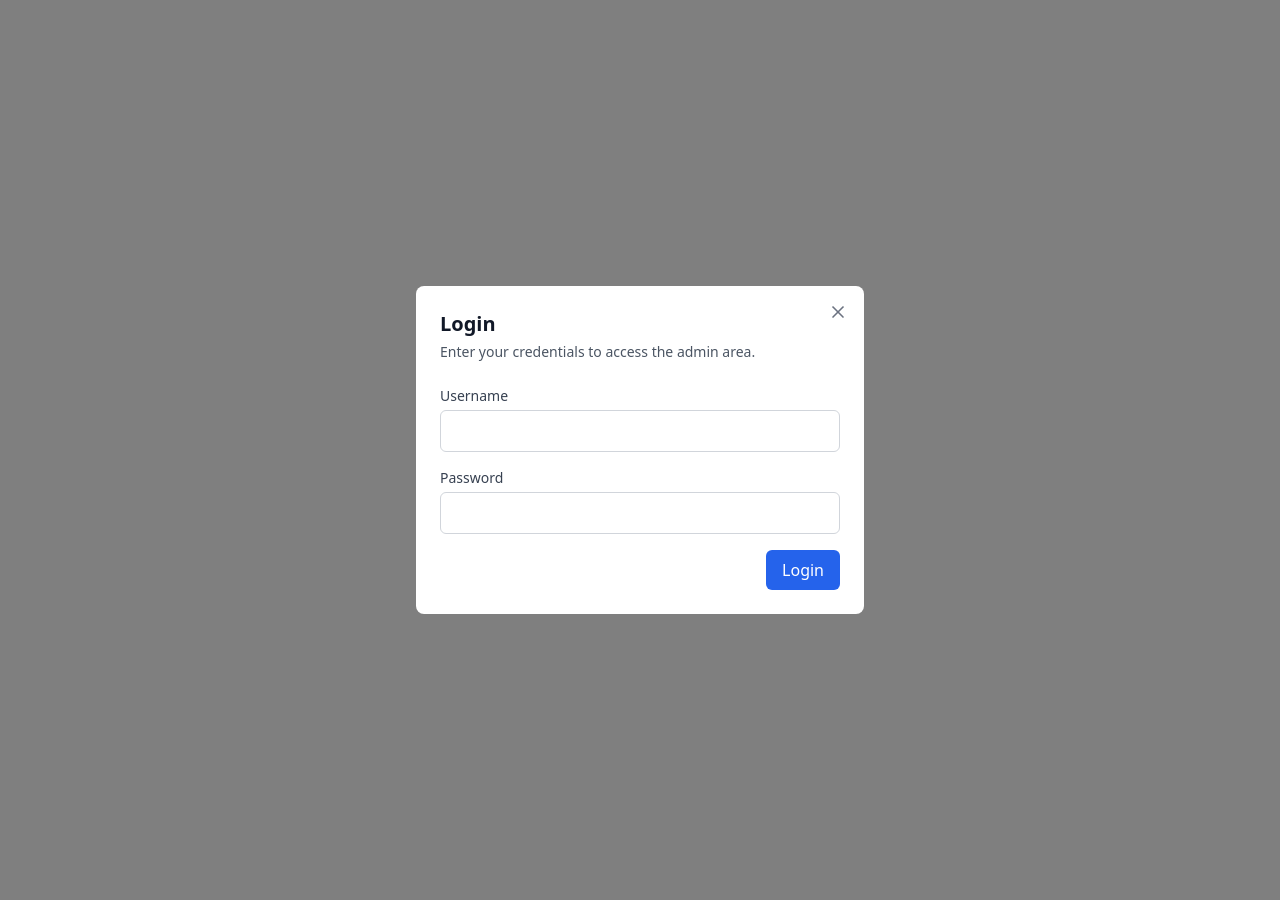
it: LoginModal Component › when isOpen is true › when invalid credentials are entered › displays an error message
In the field with test id "login-modal-username": coordinates (640, 431) [440,410,840,452], type "wrongUser"
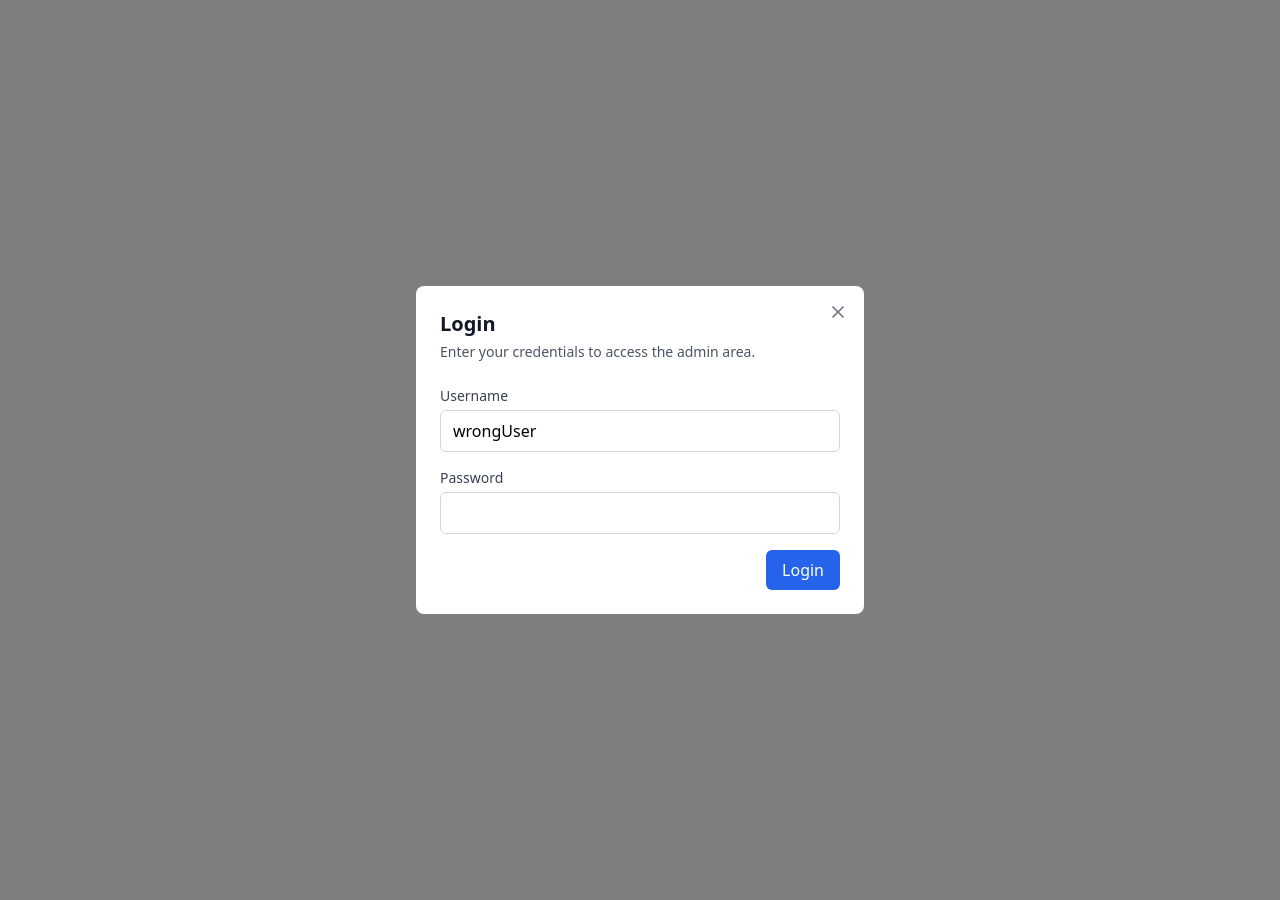
In the password field with test id "login-modal-password": coordinates (640, 513) [440,492,840,534], type "wrongPass"
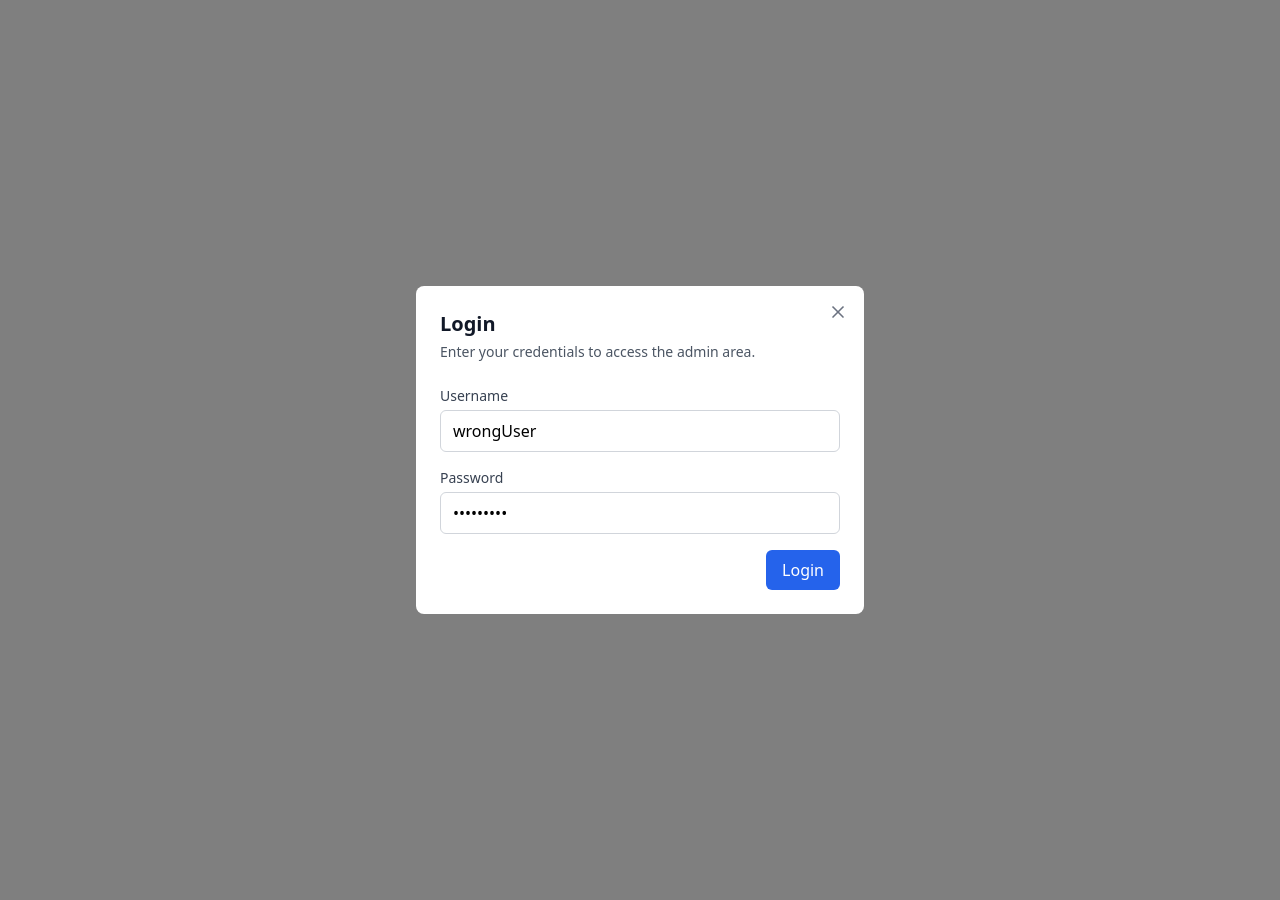
Click the button with test id "login-modal-submit-button": coordinates (803, 570) [766,550,840,590]
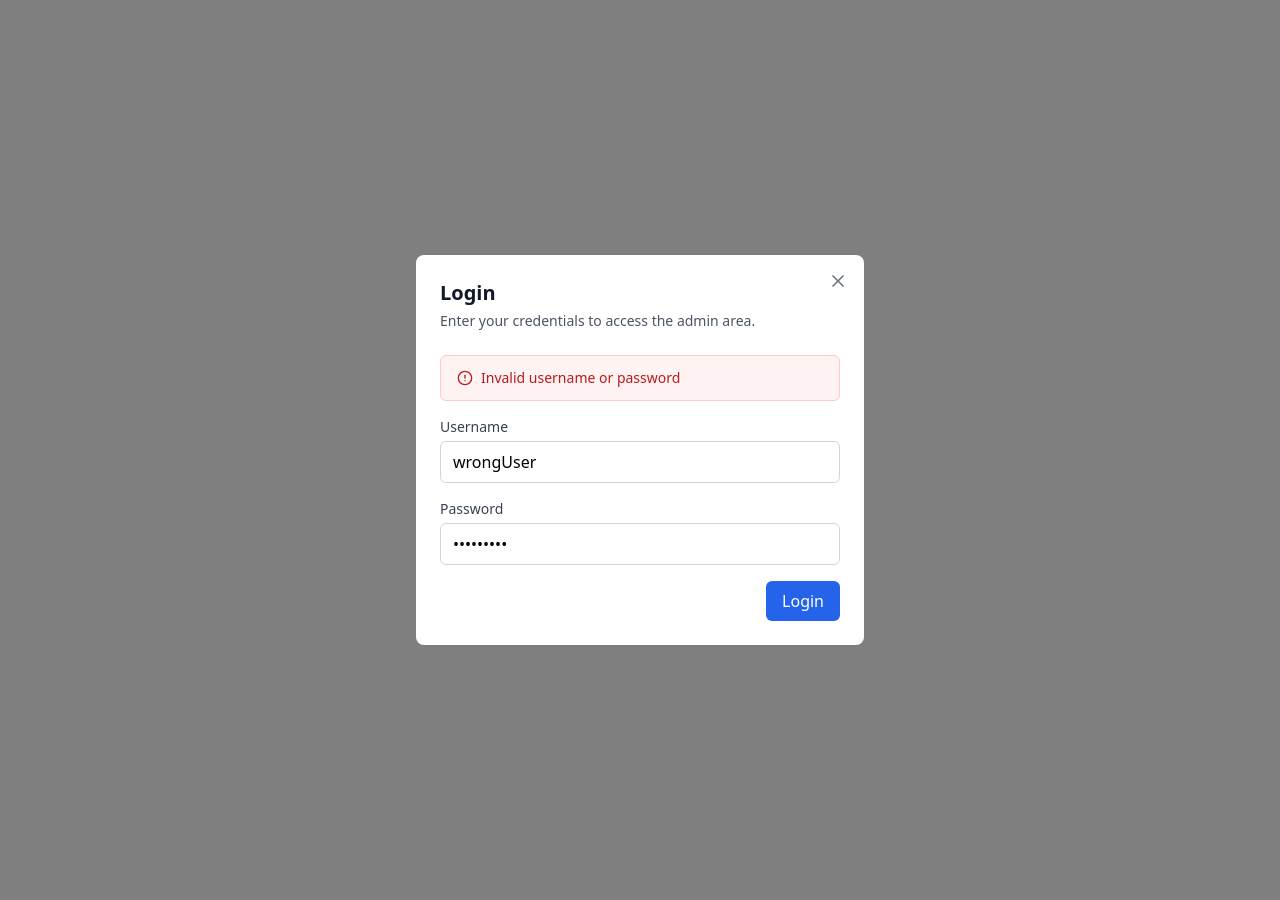
Expected: the element with test id "login-modal-error" is shown, [440,355,840,401]
